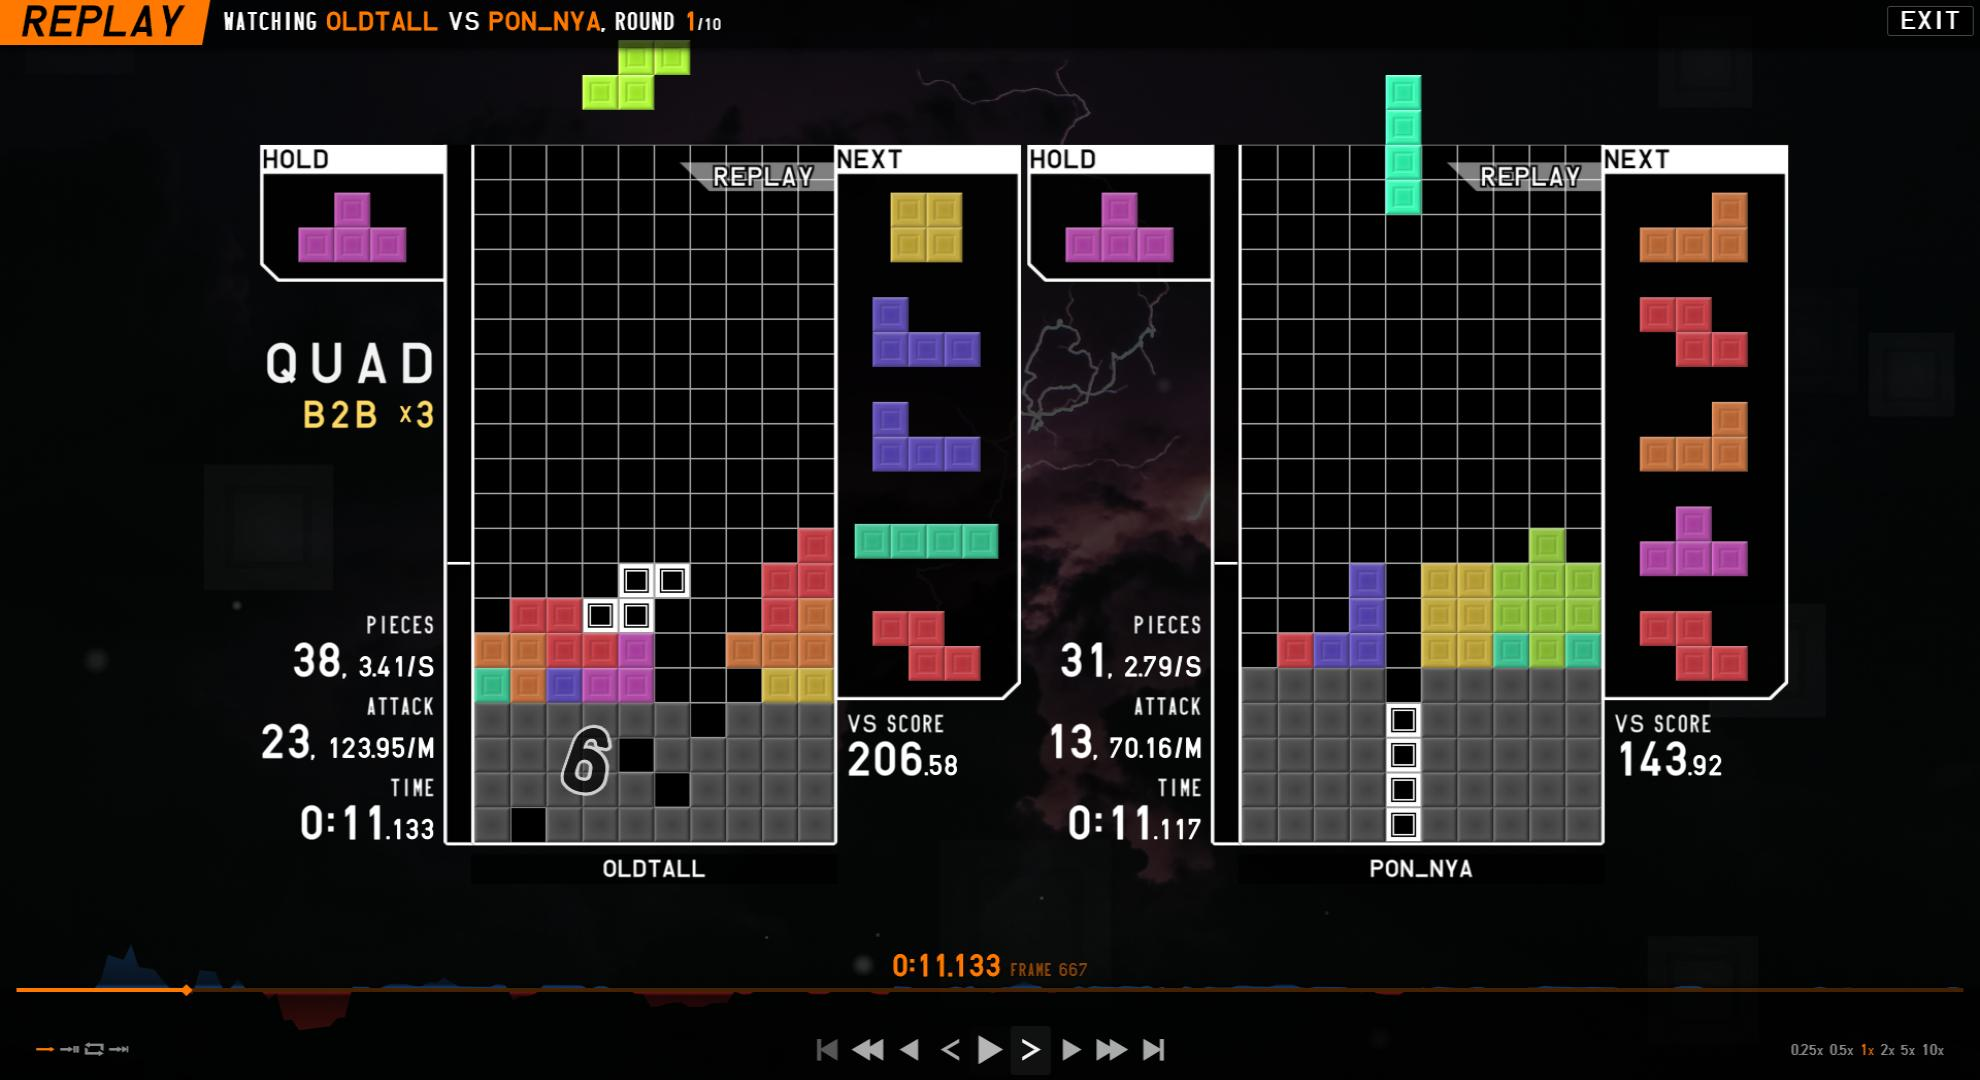tspin: (641, 622, 770, 741)
